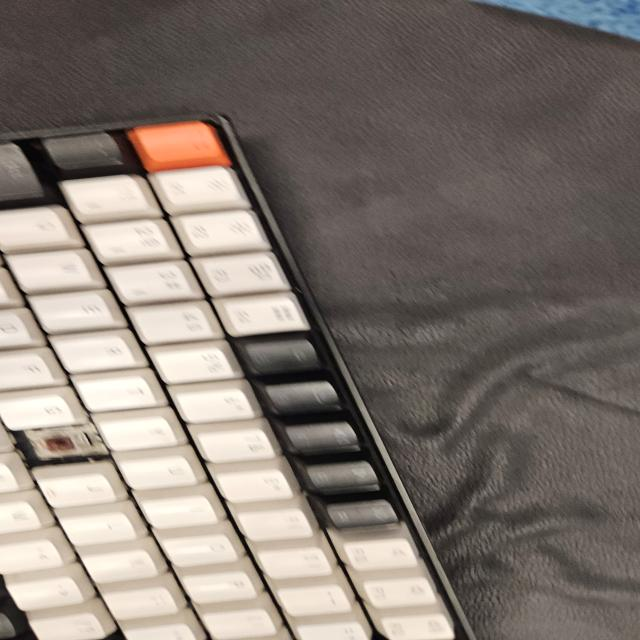C: (28, 432, 82, 459)
